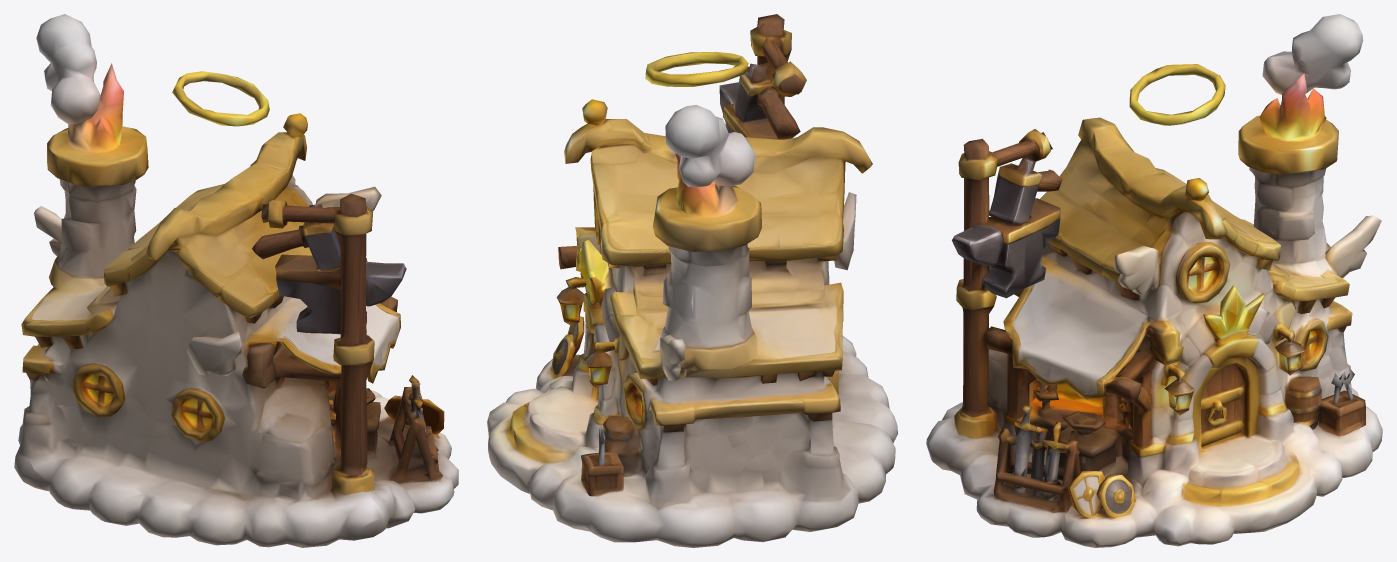
File: Town_Halo_Smithy_raw.glb
3 views of the same model, side by side, from view 1: azimuth 30°, elevation 25°; view 2: azimuth 150°, elevation 25°; view 3: azimuth 270°, elevation 25° (orthographic). The views are drawn at different scales.
Visible parts, largest first — view 1: tripo_node_6e769a86-0962-452d-908d-858b6ab43483; view 2: tripo_node_6e769a86-0962-452d-908d-858b6ab43483; view 3: tripo_node_6e769a86-0962-452d-908d-858b6ab43483.
Part boxes in pixels (x1,y1,x2,y2): tripo_node_6e769a86-0962-452d-908d-858b6ab43483: (14,14,458,547); tripo_node_6e769a86-0962-452d-908d-858b6ab43483: (487,14,897,547); tripo_node_6e769a86-0962-452d-908d-858b6ab43483: (926,14,1382,547).
Bounding box in the file's own units: 0.8949 × 0.9997 × 1.
1 material, 1 textured.
